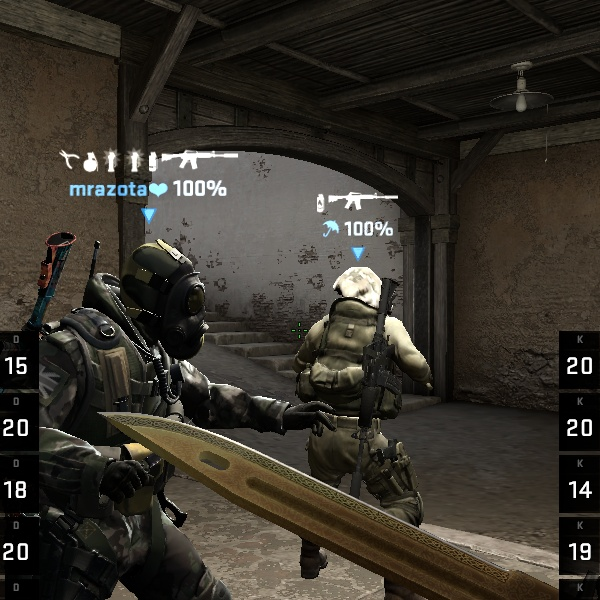ct_body: (17, 231, 238, 600), (271, 258, 453, 555)
ct_head: (88, 233, 217, 339), (324, 262, 394, 331)
